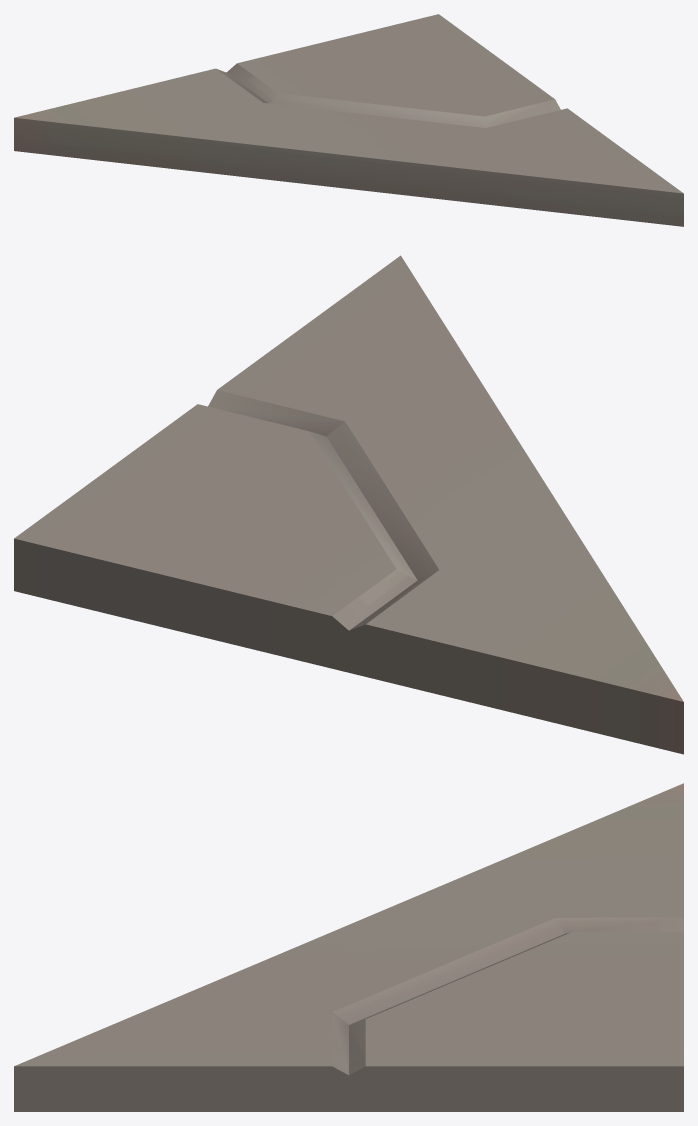
Rendered from floor_tile_small_corner.glb.
3 views of the same model, one above another, from view 1: azimuth 30°, elevation 25°; view 2: azimuth 150°, elevation 25°; view 3: azimuth 270°, elevation 25° (orthographic). The views are drawn at different scales.
Visible parts, largest first — view 1: floor_tile_small_corner; view 2: floor_tile_small_corner; view 3: floor_tile_small_corner.
Part boxes in pixels (<box>): floor_tile_small_corner: <box>14,14,683,226</box>; floor_tile_small_corner: <box>14,255,683,754</box>; floor_tile_small_corner: <box>14,783,683,1111</box>.
Size of the model in its own units: 2 by 0.1499 by 2.
1 material, 1 textured.
